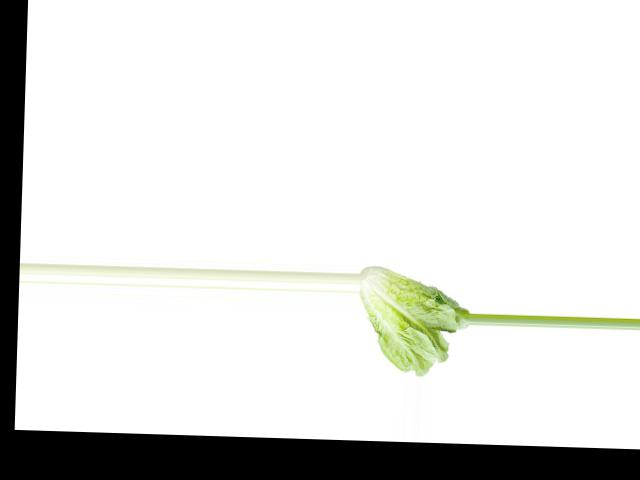lettuce: (358, 264, 468, 379)
